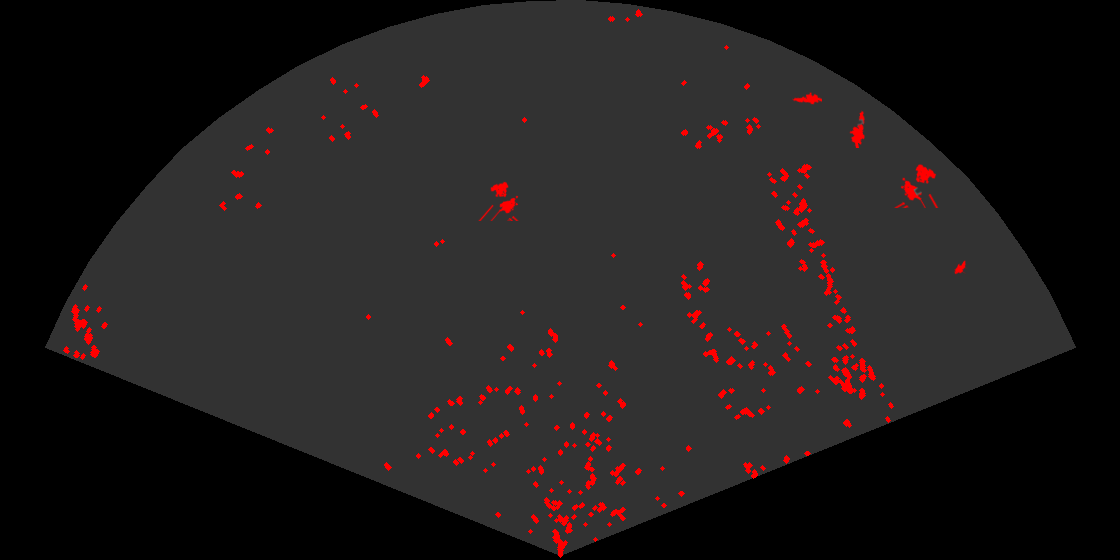AUV: (953, 259, 968, 276)
cage: (893, 163, 940, 208), (478, 180, 520, 221)
frogman: (848, 110, 866, 148), (792, 91, 822, 106)
